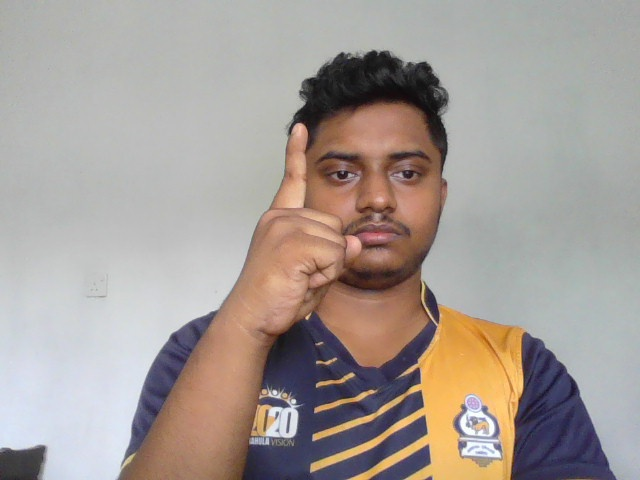Me: (223, 121, 363, 335)
